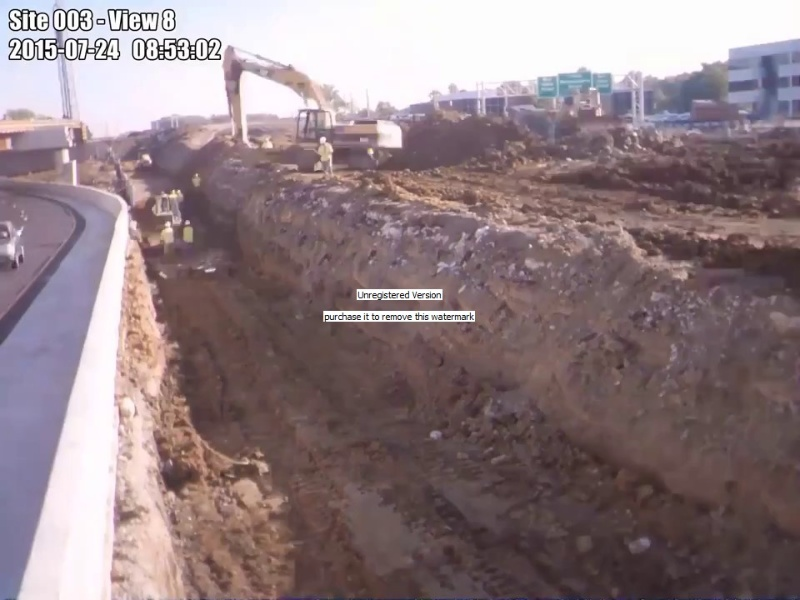excavator: (222, 45, 406, 173)
hardhat: (318, 135, 327, 144), (162, 220, 172, 227), (185, 220, 191, 226)
person: (316, 135, 335, 175), (158, 219, 177, 259), (182, 218, 194, 261), (191, 171, 201, 203)
